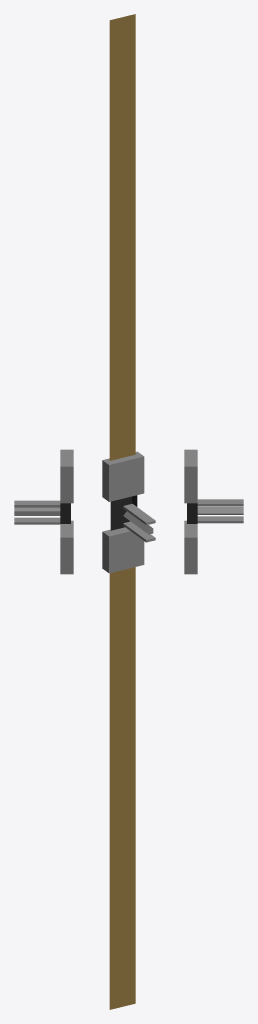
File: Heli_eli.obj
3 renders of one model, left to right at view 1: azimuth 90°, elevation 25°; view 2: azimuth 210°, elevation 25°; view 3: azimuth 270°, elevation 25°, orthographic.
Visible parts, largest first — view 1: Box05, Box08, Cylinder11, Box09, Box10, Box04; view 2: pala_f02, pala_f01, Box05, Box08, Box04, Box09, Box10, Cylinder11; view 3: Box05, Box08, Cylinder11, Box09, Box10, Box04.
Boxes of the visible parts, bbox=[...] form: Box05: bbox=[60, 449, 73, 503]; Box08: bbox=[60, 520, 73, 574]; Cylinder11: bbox=[14, 507, 60, 515]; Box09: bbox=[14, 500, 60, 507]; Box10: bbox=[14, 517, 60, 524]; Box04: bbox=[60, 503, 70, 523]; pala_f02: bbox=[109, 14, 135, 460]; pala_f01: bbox=[109, 567, 135, 1009]; Box05: bbox=[102, 451, 144, 501]; Box08: bbox=[102, 527, 144, 573]; Box04: bbox=[110, 495, 137, 530]; Box09: bbox=[123, 503, 155, 525]; Box10: bbox=[123, 521, 155, 542]; Cylinder11: bbox=[123, 511, 153, 534]; Box05: bbox=[184, 449, 197, 503]; Box08: bbox=[184, 520, 197, 574]; Cylinder11: bbox=[197, 506, 243, 514]; Box09: bbox=[197, 499, 243, 506]; Box10: bbox=[197, 516, 243, 523]; Box04: bbox=[187, 503, 197, 523].
Bounding box in the file's own units: 0.15 × 4.02 × 0.22.
